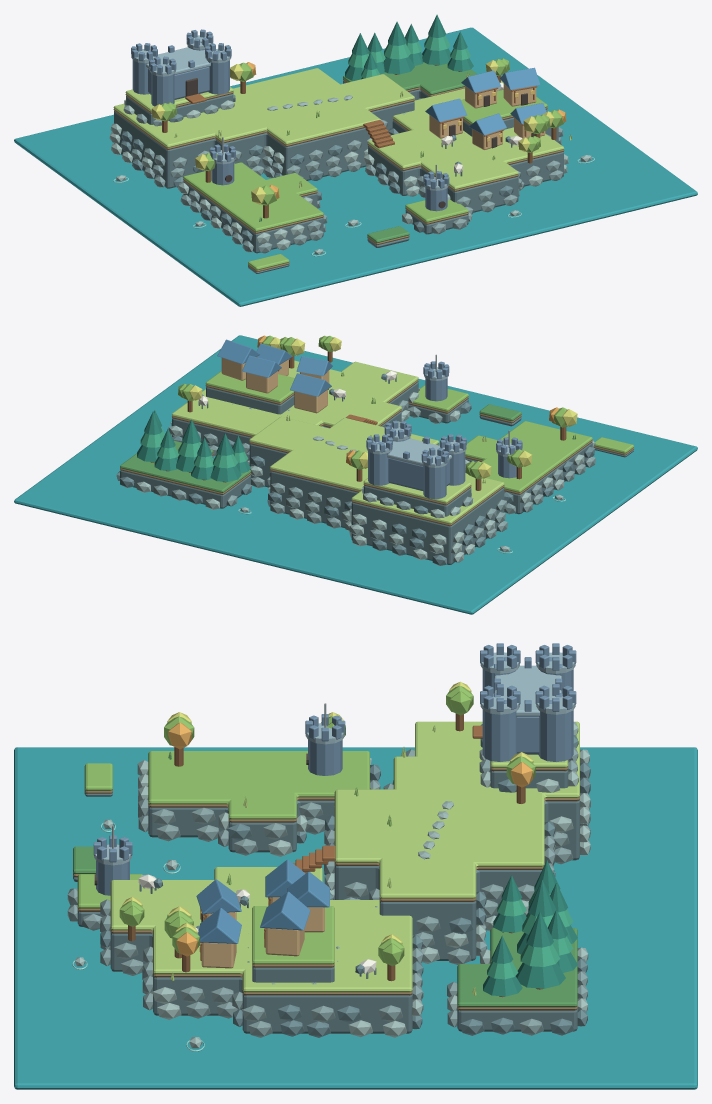
The model's file is stylized_fantasy_terrain.glb.
3 renders of one model, top to bottom at view 1: azimuth 30°, elevation 25°; view 2: azimuth 150°, elevation 25°; view 3: azimuth 270°, elevation 25°, orthographic. The views are drawn at different scales.
Parts seen in each view (by area): view 1: Water_Plane, Highland_Main_GrassCap, Village_Island_GrassCap, Highland_Main_RockBody, Western_Lowland_GrassCap, Village_Island_RockBody, Northern_Forest_GrassCap, Western_Lowland_RockBody, Village_Terrace_GrassCap, Castle_Parapet, Castle_Keep, Highland_Main_EarthRim (+11 smaller); view 2: Water_Plane, Highland_Main_GrassCap, Village_Island_GrassCap, Highland_Main_RockBody, Western_Lowland_GrassCap, Northern_Forest_GrassCap, Northern_Forest_RockBody, Village_Terrace_GrassCap, Village_Island_RockBody, Castle_Keep, Castle_Terrace_RockBody, Village_Terrace_RockBody (+16 smaller); view 3: Water_Plane, Highland_Main_GrassCap, Village_Island_GrassCap, Western_Lowland_GrassCap, Village_Island_RockBody, Highland_Main_RockBody, Northern_Forest_GrassCap, Western_Lowland_RockBody, Village_Terrace_GrassCap, Castle_Tower_3_Body, Northern_Forest_RockBody, Castle_Tower_1_Body (+20 smaller).
Boxes of the visible parts, x1,y1,x2,y2 form: Water_Plane: (14,27,697,306); Highland_Main_GrassCap: (113,68,414,147); Village_Island_GrassCap: (367,80,564,189); Highland_Main_RockBody: (114,101,414,188); Western_Lowland_GrassCap: (183,162,323,231); Village_Island_RockBody: (368,120,563,212); Northern_Forest_GrassCap: (343,62,477,94); Western_Lowland_RockBody: (183,181,323,253); Village_Terrace_GrassCap: (461,89,547,123); Castle_Parapet: (146,47,210,74); Castle_Keep: (148,67,209,99); Highland_Main_EarthRim: (113,99,414,149); Water_Plane: (14,335,697,614); Highland_Main_GrassCap: (249,416,504,524); Village_Island_GrassCap: (172,360,418,435); Highland_Main_RockBody: (249,444,504,564); Western_Lowland_GrassCap: (465,421,592,492); Northern_Forest_GrassCap: (120,440,251,492); Northern_Forest_RockBody: (120,455,250,508); Village_Terrace_GrassCap: (205,371,294,402); Village_Island_RockBody: (172,382,418,446); Castle_Keep: (388,458,449,490); Castle_Terrace_RockBody: (363,485,471,516); Village_Terrace_RockBody: (206,387,294,414); Water_Plane: (14,747,697,1089); Highland_Main_GrassCap: (334,721,579,898); Village_Island_GrassCap: (110,867,412,992); Western_Lowland_GrassCap: (148,751,369,819); Village_Island_RockBody: (110,931,412,1033); Highland_Main_RockBody: (334,799,579,960); Northern_Forest_GrassCap: (457,928,577,1007); Western_Lowland_RockBody: (148,800,334,852); Village_Terrace_GrassCap: (252,906,334,964); Castle_Tower_3_Body: (538,710,573,761); Northern_Forest_RockBody: (457,1008,577,1031); Castle_Tower_1_Body: (482,710,517,761).
Bounding box in the file's own units: 34 × 7.63 × 29.
